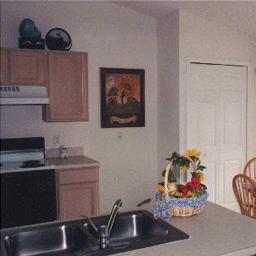Electrodomestico: (4, 139, 57, 222)
Lavaplatos: (6, 216, 196, 251)
Puerta: (189, 63, 244, 204)
